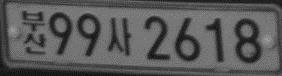1: (204, 17, 229, 62)
2: (144, 15, 170, 60)
6: (174, 17, 201, 60)
8: (233, 17, 261, 63)
9: (76, 11, 101, 56), (48, 11, 72, 54)
부산_V: (22, 9, 47, 54)
사: (107, 16, 131, 56)
